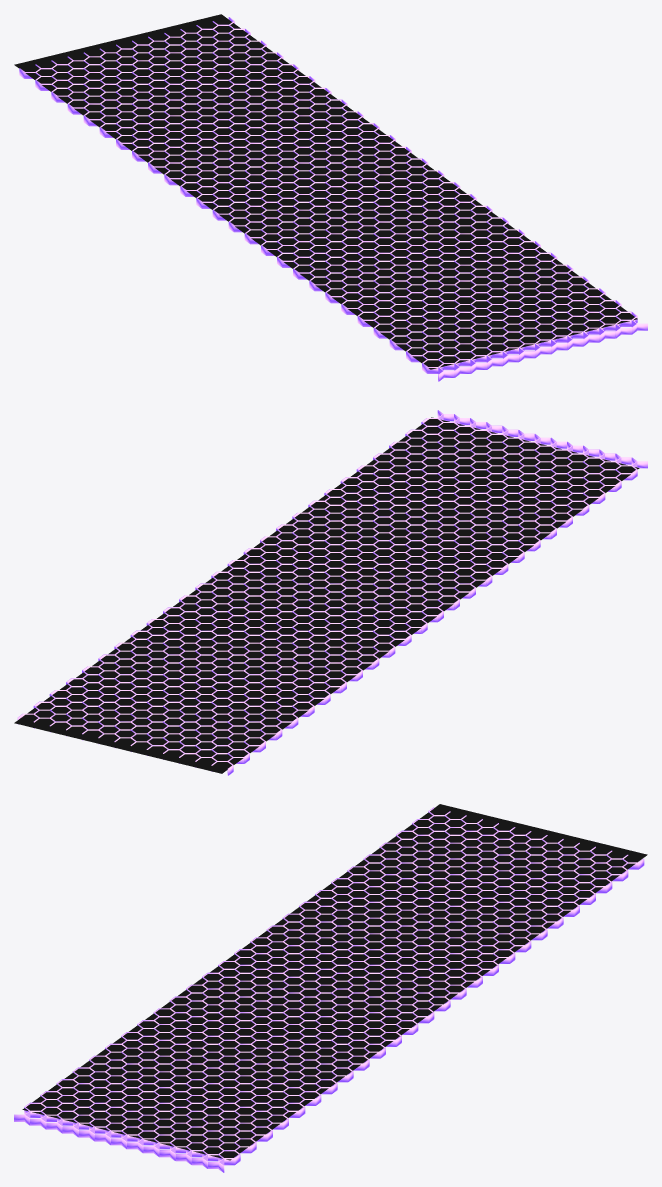
The model's file is yuka2.fbx.
The picture shows the model from 3 angles, top to bottom: view 1: azimuth 30°, elevation 25°; view 2: azimuth 150°, elevation 25°; view 3: azimuth 330°, elevation 25°; orthographic projection.
Visible parts, largest first — view 1: 平面, 円; view 2: 平面, 円; view 3: 平面, 円.
Part boxes in pixels (box(x1,y1,x2,y2)): 平面: box(14, 14, 637, 369); 円: box(19, 17, 647, 381); 平面: box(14, 417, 639, 773); 円: box(17, 410, 647, 775); 平面: box(22, 804, 647, 1160); 円: box(14, 807, 644, 1172).
Size of the model in its own units: 2260 by 70 by 7910.
